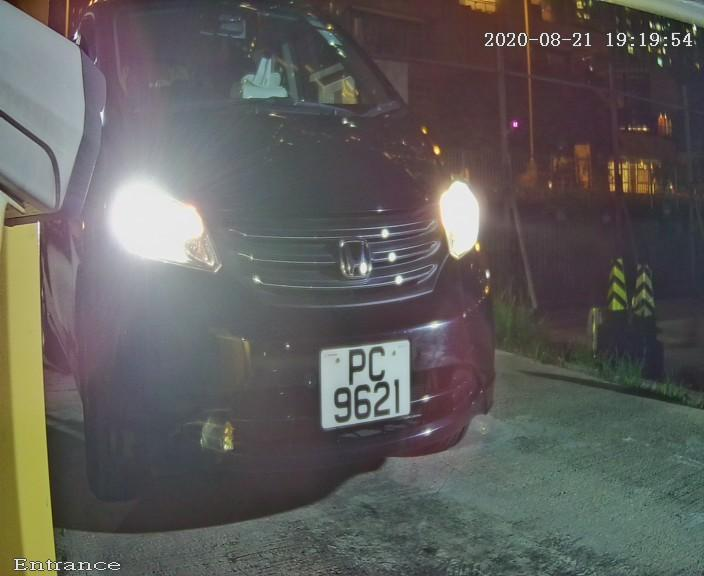Car: (1, 3, 547, 530)
License Plate: (309, 332, 422, 435)
